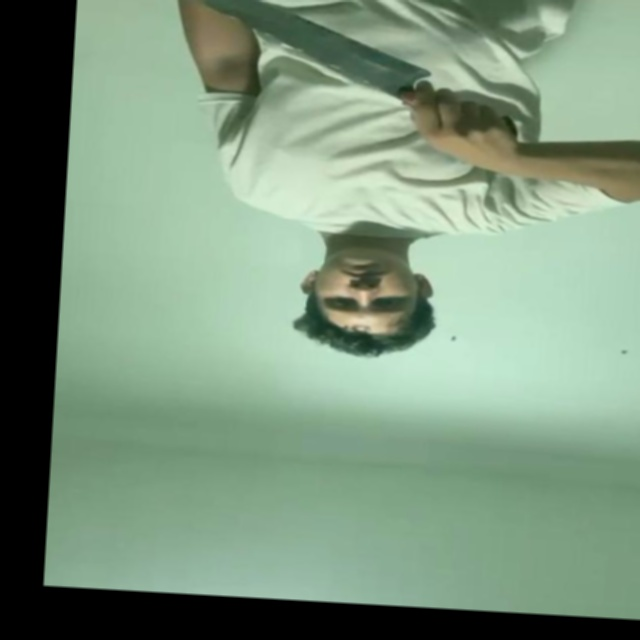Sharp-Object: (155, 0, 431, 101)
